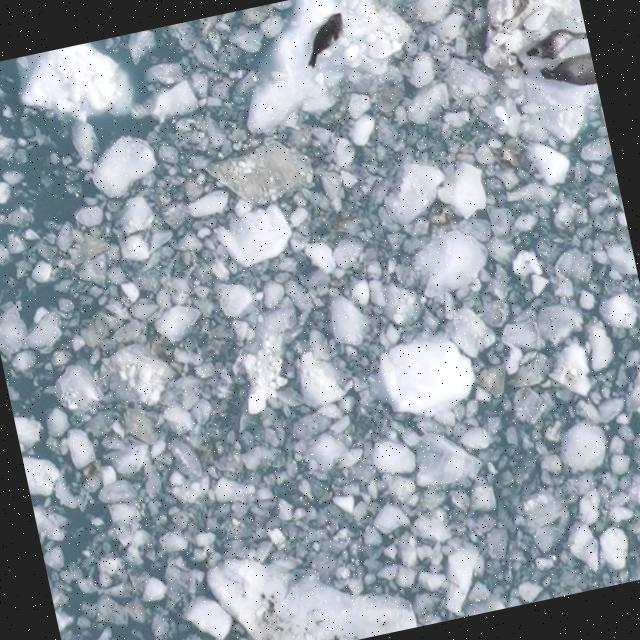seal: (308, 14, 346, 68), (526, 30, 587, 59), (541, 55, 597, 86)
